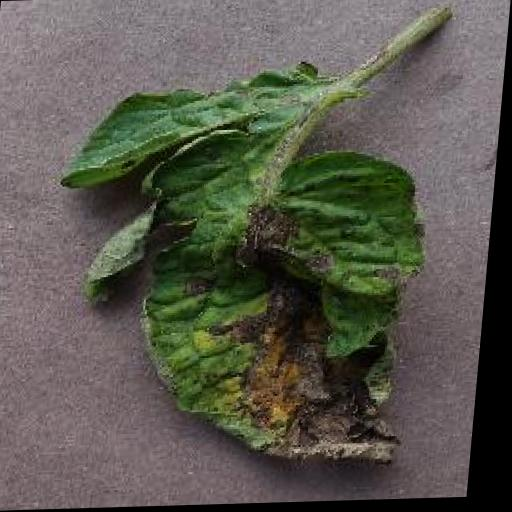Early Blight: (39, 59, 440, 474)
